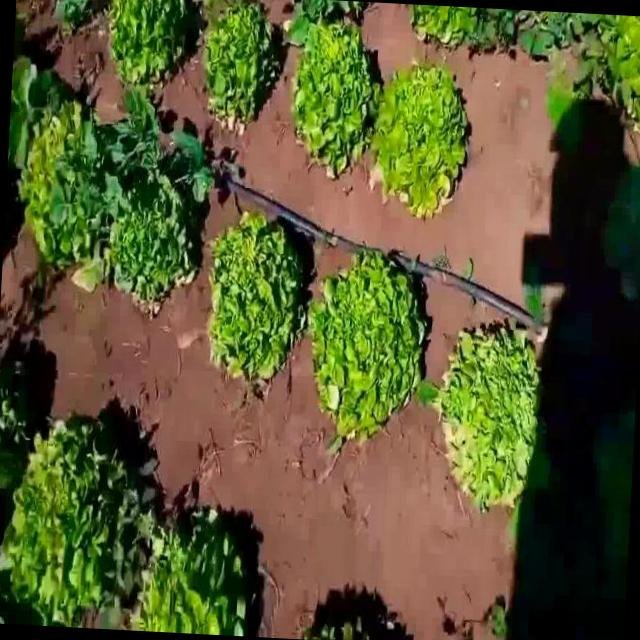Lettuce-Ready-to-Harvest: (0, 404, 163, 627), (106, 89, 212, 313), (310, 253, 431, 447), (439, 324, 540, 510), (209, 213, 311, 390), (136, 503, 262, 637), (370, 65, 469, 217), (22, 99, 107, 268), (298, 23, 380, 175), (206, 3, 282, 129), (574, 13, 640, 134), (111, 0, 199, 89), (412, 5, 518, 51)
